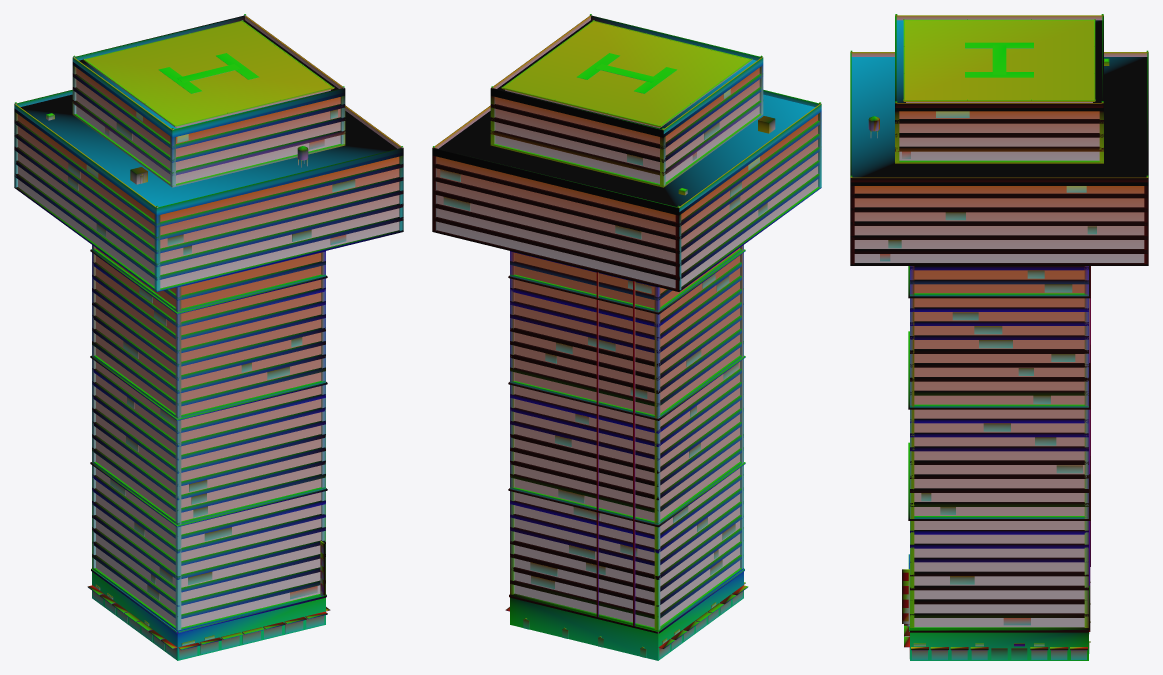
Rendered from Tower_Crown.fbx.
The picture shows the model from 3 angles, left to right: view 1: azimuth 30°, elevation 25°; view 2: azimuth 150°, elevation 25°; view 3: azimuth 270°, elevation 25°; orthographic projection. The views are drawn at different scales.
Visible parts, largest first — view 1: Tower_Crown_LOD0; view 2: Tower_Crown_LOD0; view 3: Tower_Crown_LOD0.
Boxes of the visible parts, <box> form: Tower_Crown_LOD0: <box>14,14,403,660</box>; Tower_Crown_LOD0: <box>432,14,821,660</box>; Tower_Crown_LOD0: <box>850,14,1148,660</box>.
Size of what is drawn, in the model's own units: 70 by 146 by 70.
